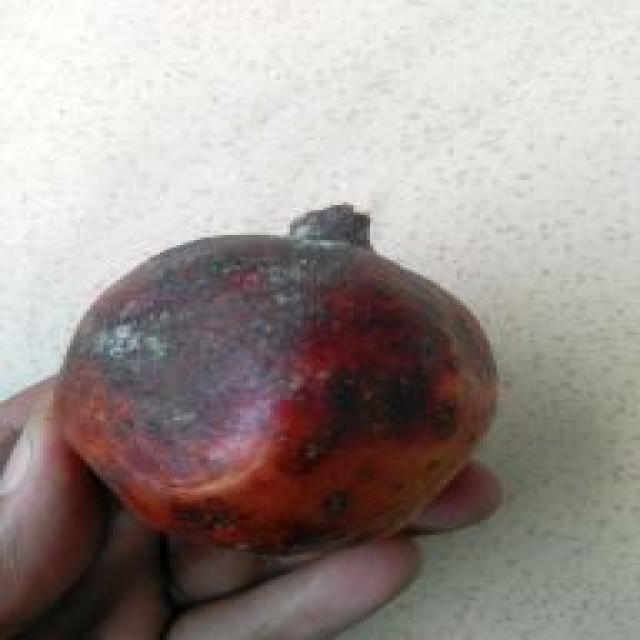Rotten: (56, 204, 492, 553)
